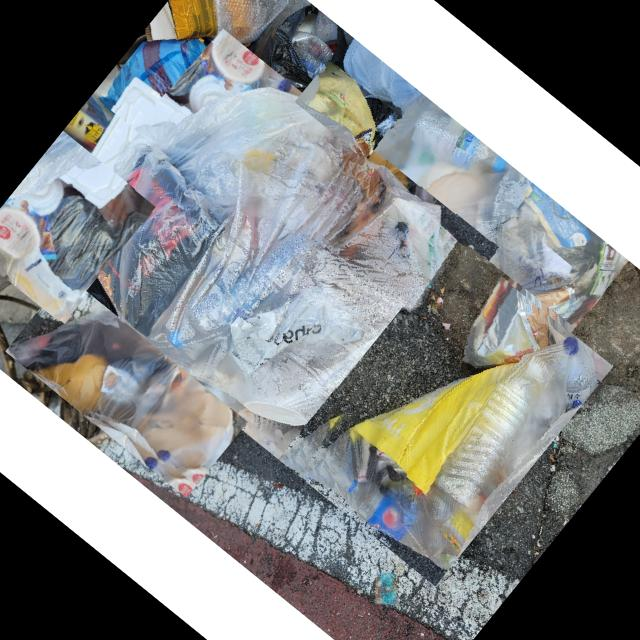other_trashbag: (85, 88, 462, 424), (362, 95, 627, 393), (295, 338, 595, 568), (11, 313, 230, 472), (0, 179, 149, 322), (100, 39, 247, 110), (307, 62, 373, 153)
